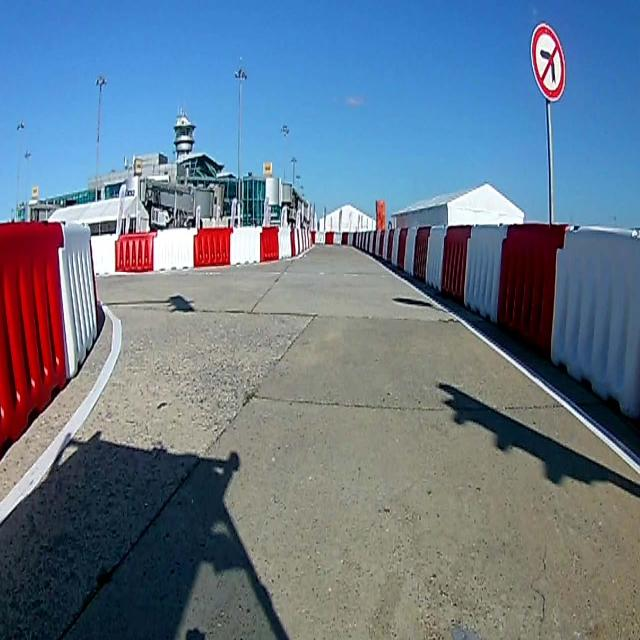soladonulmez: (530, 24, 567, 106)
